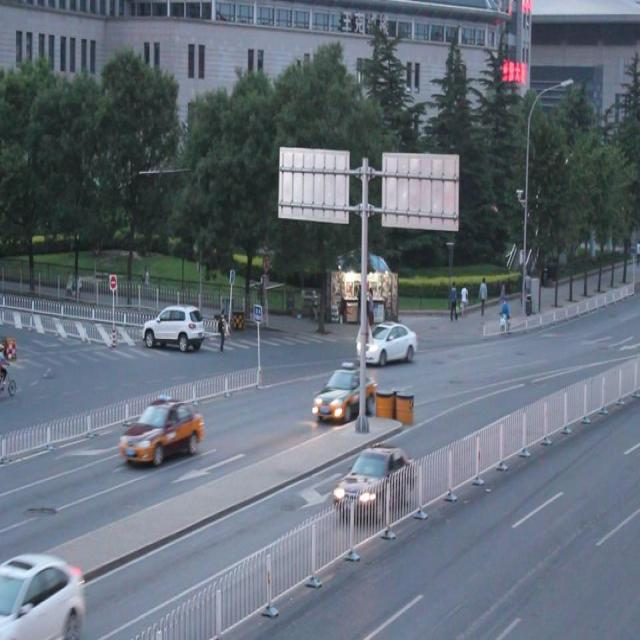car: (1, 550, 86, 640), (336, 446, 416, 516), (120, 398, 202, 465), (312, 364, 376, 424), (141, 304, 202, 349), (358, 320, 416, 366)
